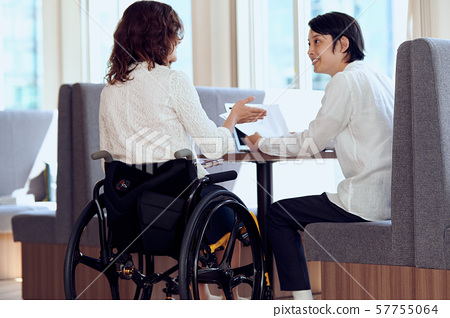wheelchair: (63, 1, 265, 300)
